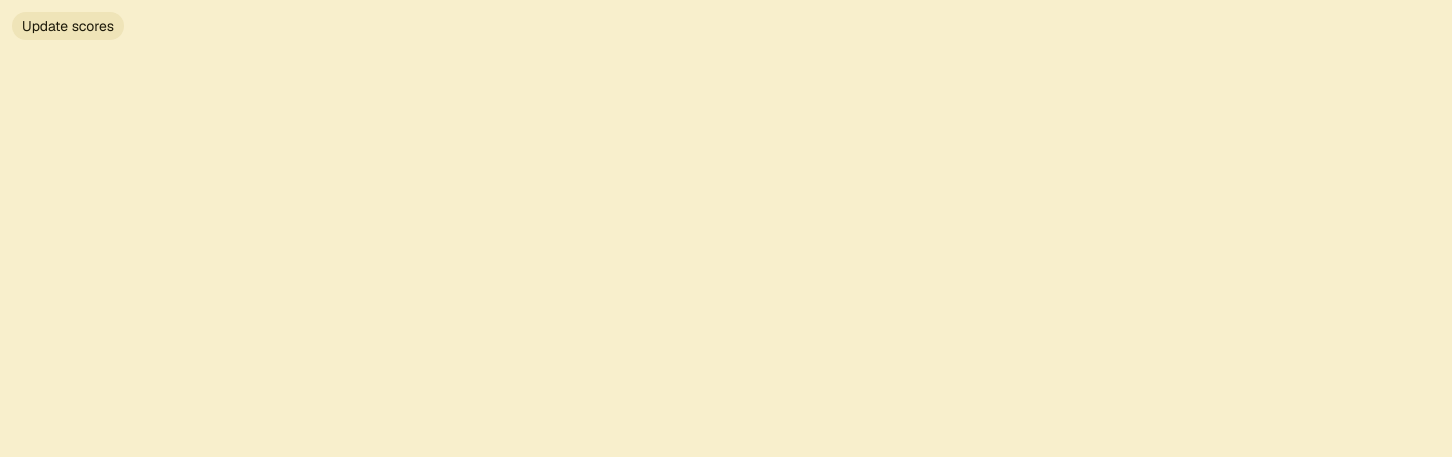
Test: InlineRatingEditor (R51) › shows the reason, and keeps the chosen scores, if the save fails
Click the button "Update scores" at (68, 26), box left=12, top=12, right=124, bottom=40
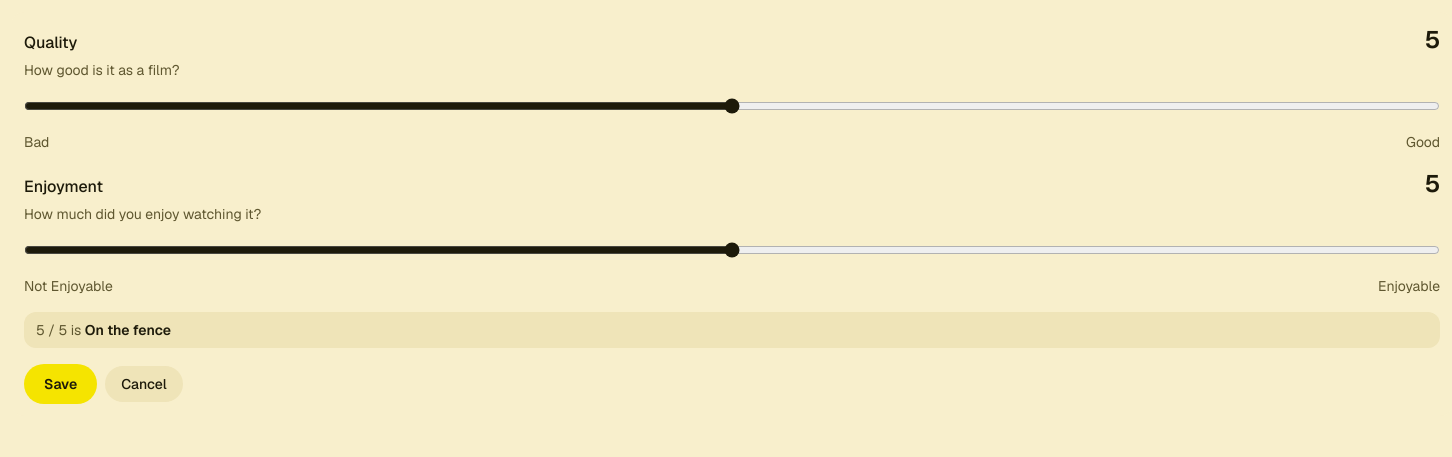
Set the slider labelled "Quality" to "8" at (1152, 106), box left=24, top=84, right=1440, bottom=128
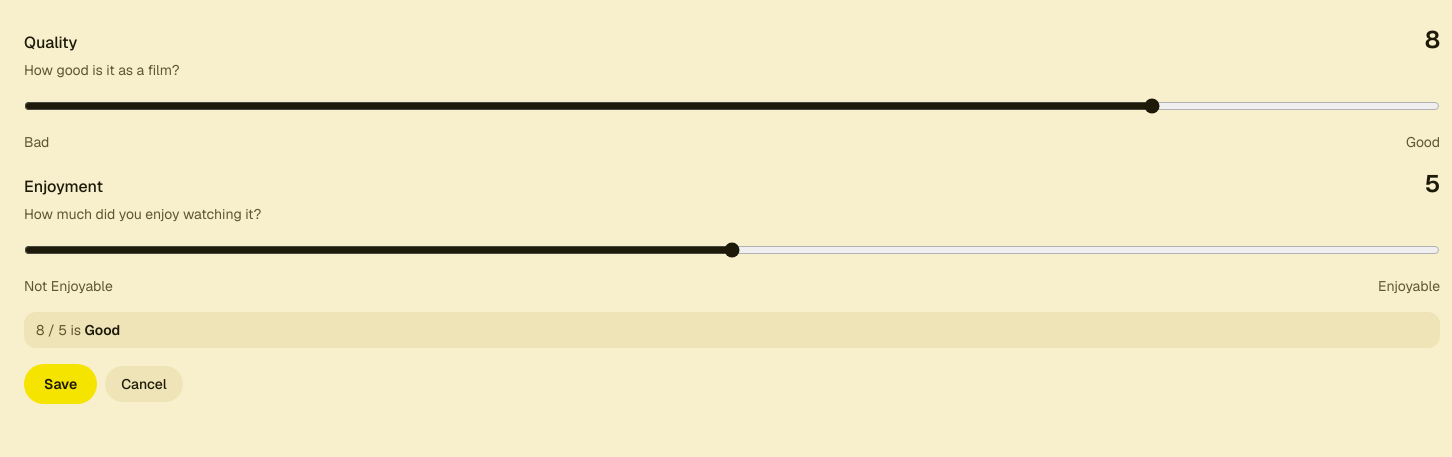
Set the slider labelled "Enjoyment" to "7" at (1012, 250), box left=24, top=228, right=1440, bottom=272
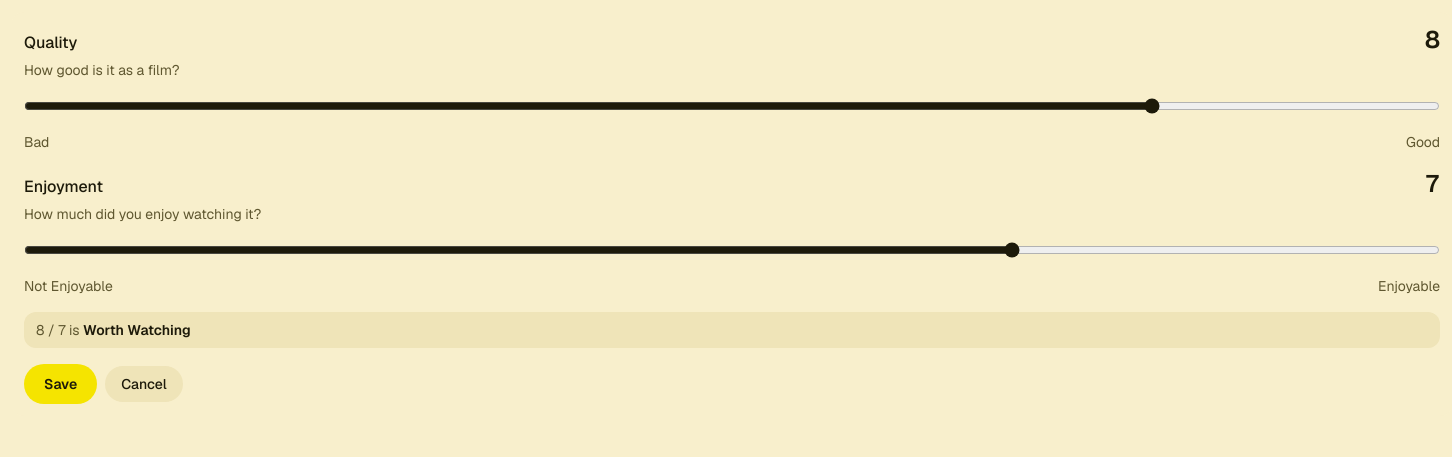
Submit the form named "Save"
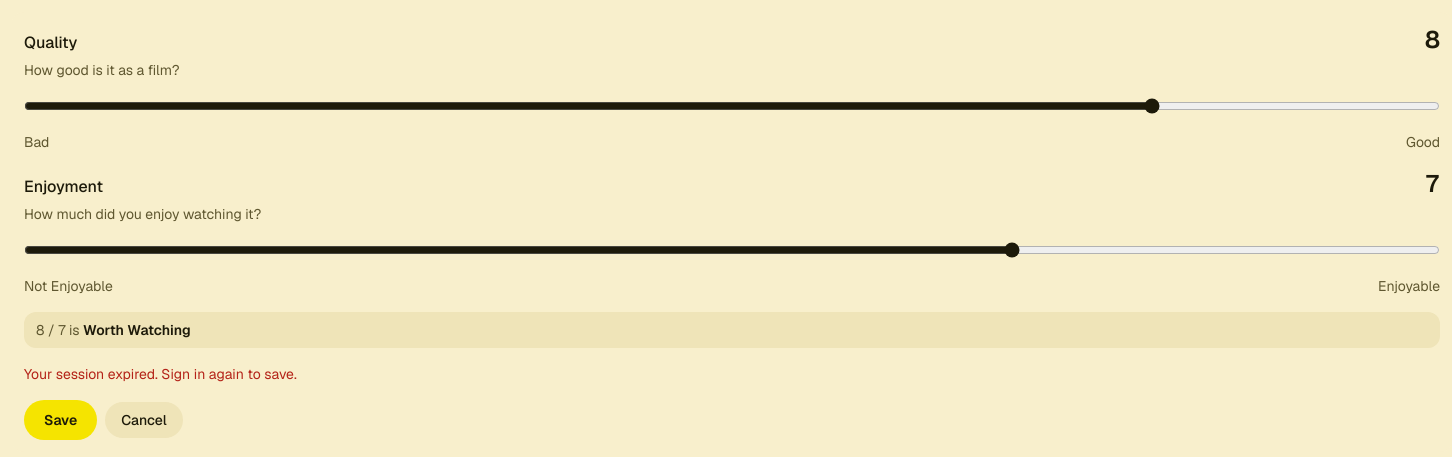
Result: the message shows "Your session expired" at left=24, top=365, right=297, bottom=383
